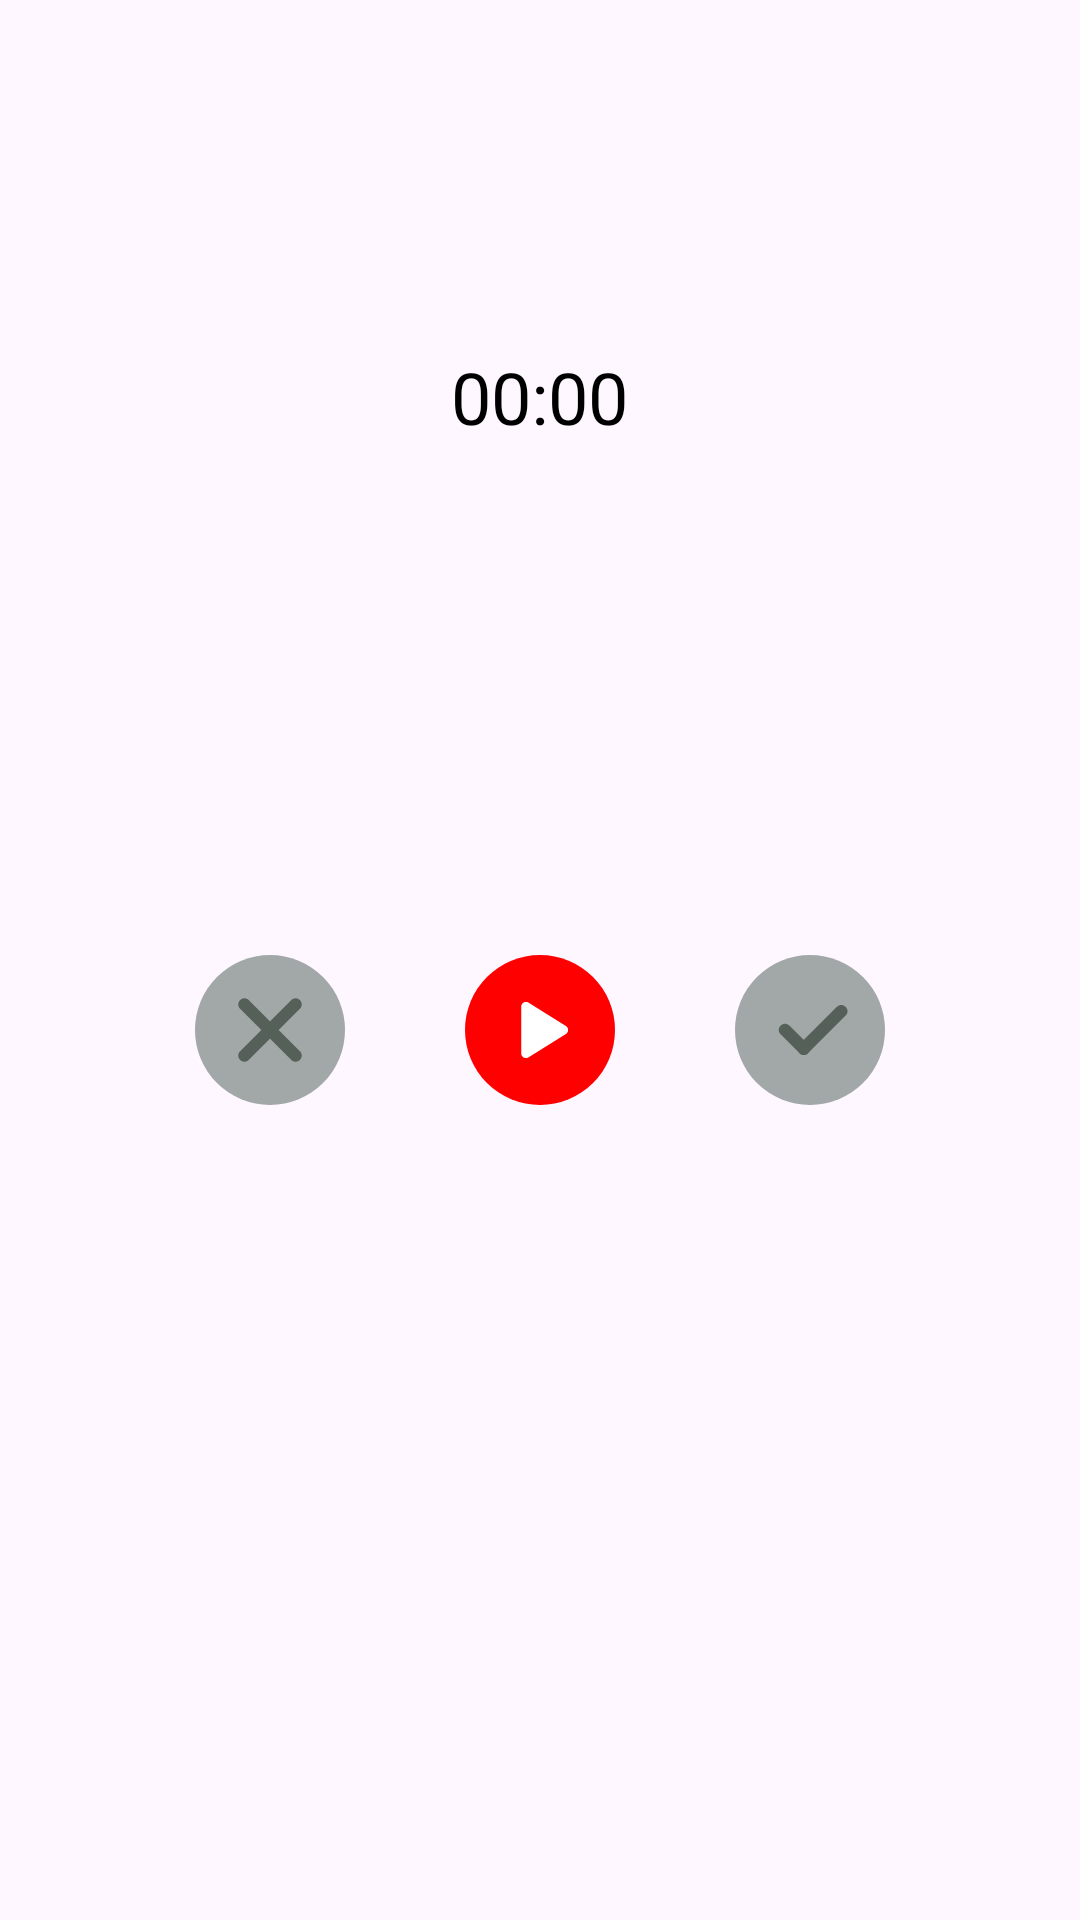

Where to tap for icons on this 1080 x 1920 app screen, as (x=x, y=y):
cancel: (x=270, y=1030)
yes: (x=810, y=1030)
